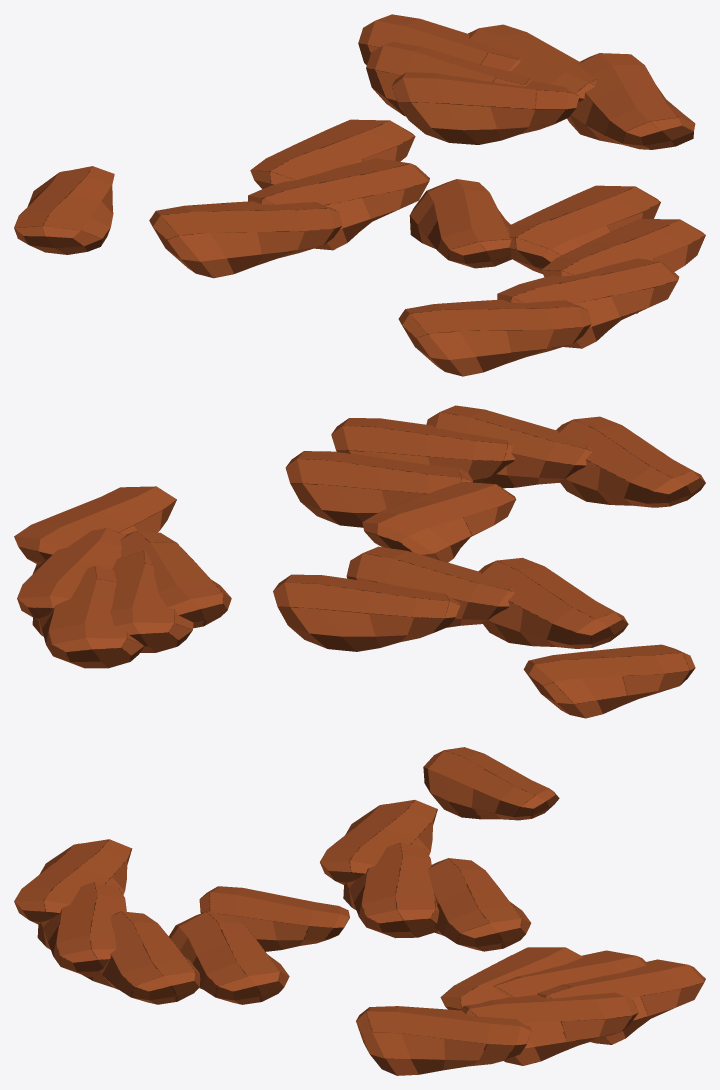
3 views of the same model, one above another, from view 1: azimuth 30°, elevation 25°; view 2: azimuth 150°, elevation 25°; view 3: azimuth 270°, elevation 25° (orthographic). The views are drawn at different scales.
Parts seen in each view (by area): view 1: Cube.018_Baked; view 2: Cube.018_Baked; view 3: Cube.018_Baked.
Boxes of the visible parts, x1,y1,x2,y2 form: Cube.018_Baked: (14,14,705,376); Cube.018_Baked: (14,405,705,718); Cube.018_Baked: (14,747,705,1075).
Bounding box in the file's own units: 39.31 × 2.98 × 38.99.
1 material, 1 textured.
